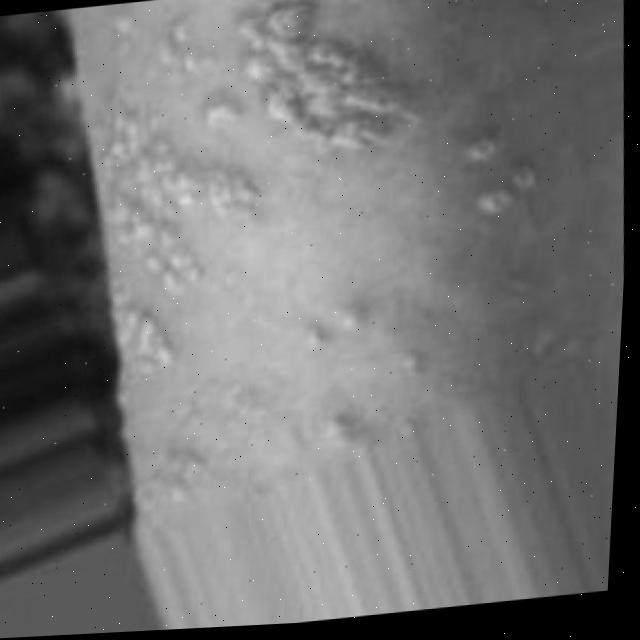Shingles: (61, 0, 408, 368), (458, 133, 534, 214)
